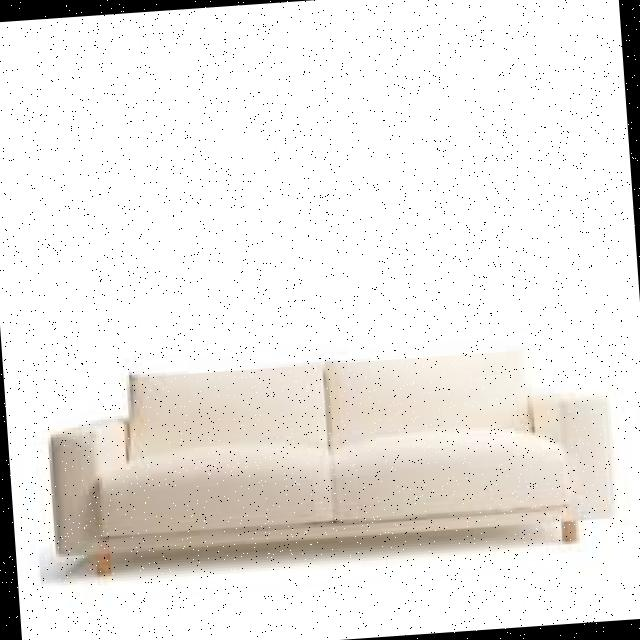Sofa: (18, 312, 636, 608)
